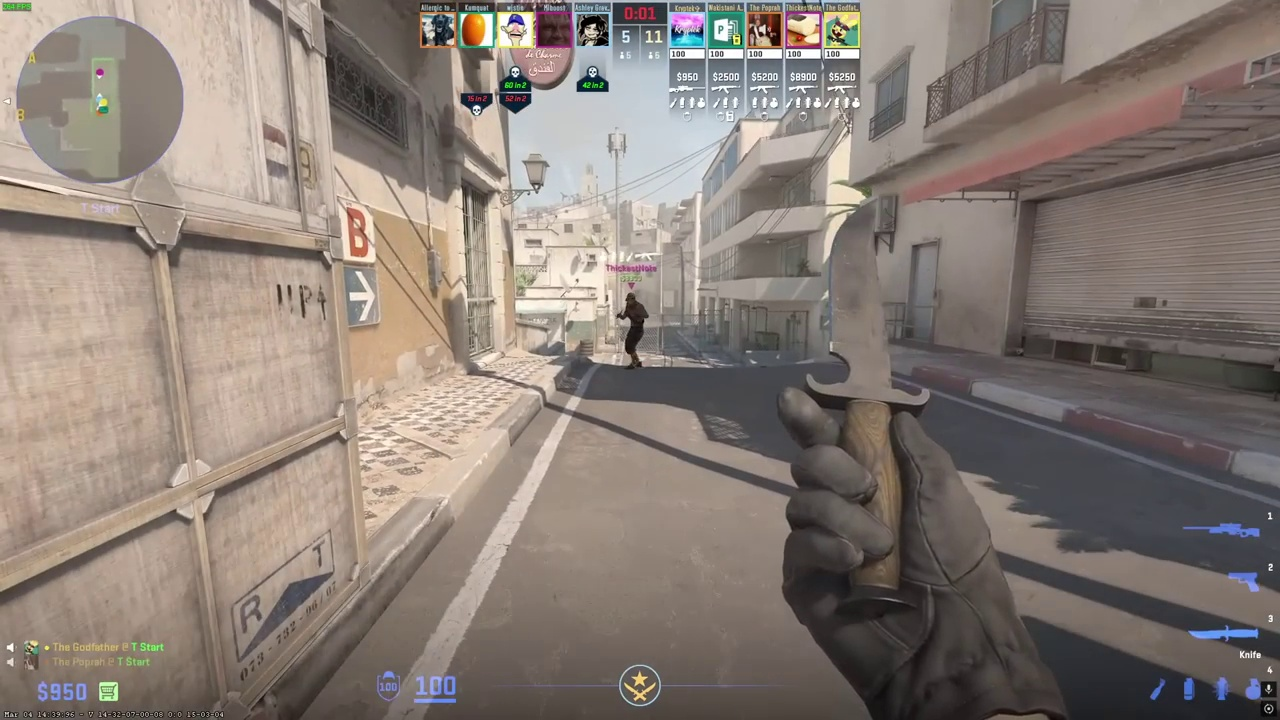Terrorist: (620, 292, 646, 370)
